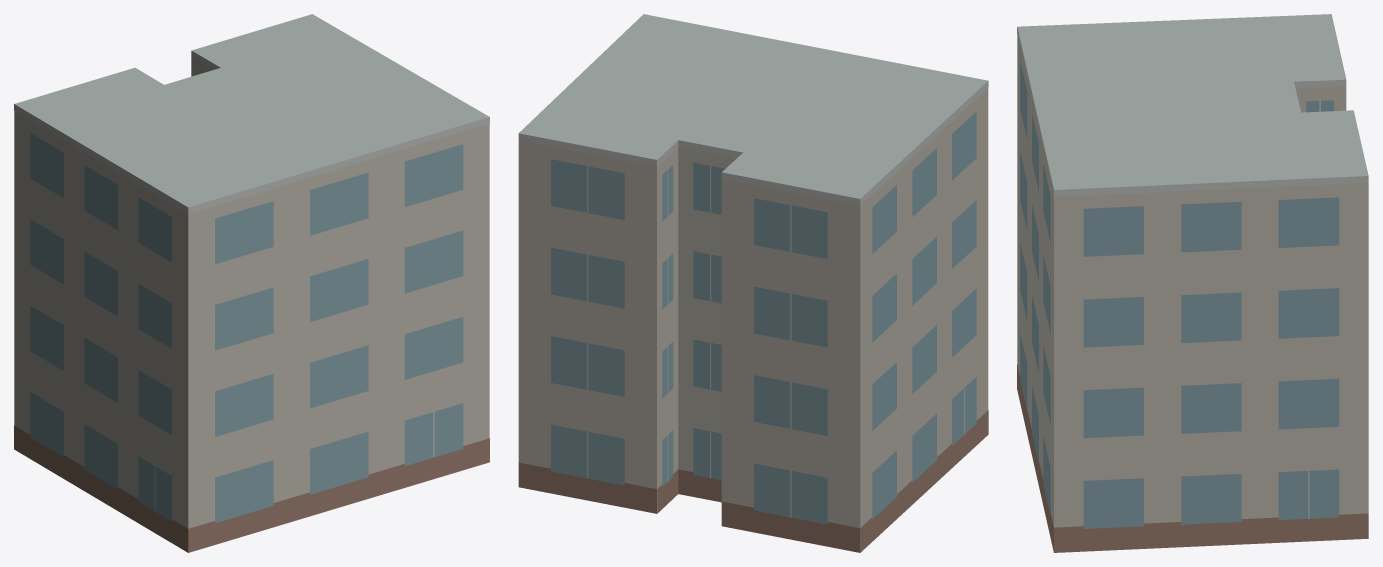
Rendered from survey-upis-32664191.glb.
The picture shows the model from 3 angles, left to right: view 1: azimuth 30°, elevation 25°; view 2: azimuth 150°, elevation 25°; view 3: azimuth 270°, elevation 25°; orthographic projection. The views are drawn at different scales.
Parts seen in each view (by area): view 1: survey-upis-32664191.tmp; view 2: survey-upis-32664191.tmp; view 3: survey-upis-32664191.tmp.
Part boxes in pixels (x1,y1,x2,y2): survey-upis-32664191.tmp: (14,14,489,552); survey-upis-32664191.tmp: (518,14,988,552); survey-upis-32664191.tmp: (1017,14,1368,552).
Size of the model in its own units: 13.28 by 12.75 by 11.2.
